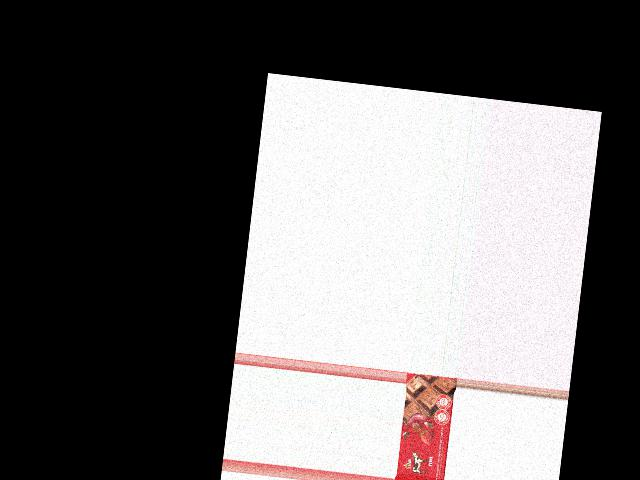chocolate: (393, 373, 457, 480)
